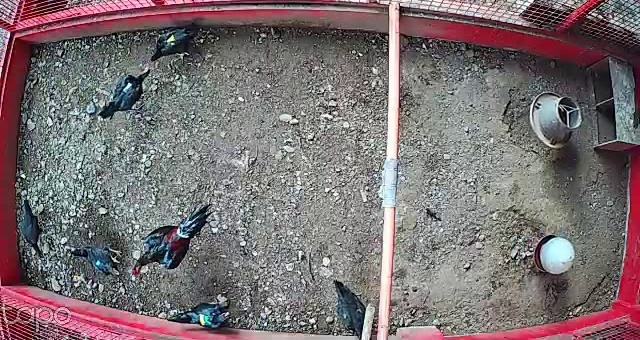Chicken: (99, 68, 153, 123), (332, 279, 371, 340), (168, 298, 233, 332), (152, 21, 202, 64), (72, 239, 123, 279), (19, 195, 49, 262)
Rooster: (130, 208, 218, 282)
Saddle_Color_Blue: (95, 260, 101, 267)
Saddle_Color_White: (127, 84, 131, 88)
Saddle_Color_Yellow: (166, 32, 175, 47)
Saddle_Color_YellowGreen: (200, 313, 210, 324)
